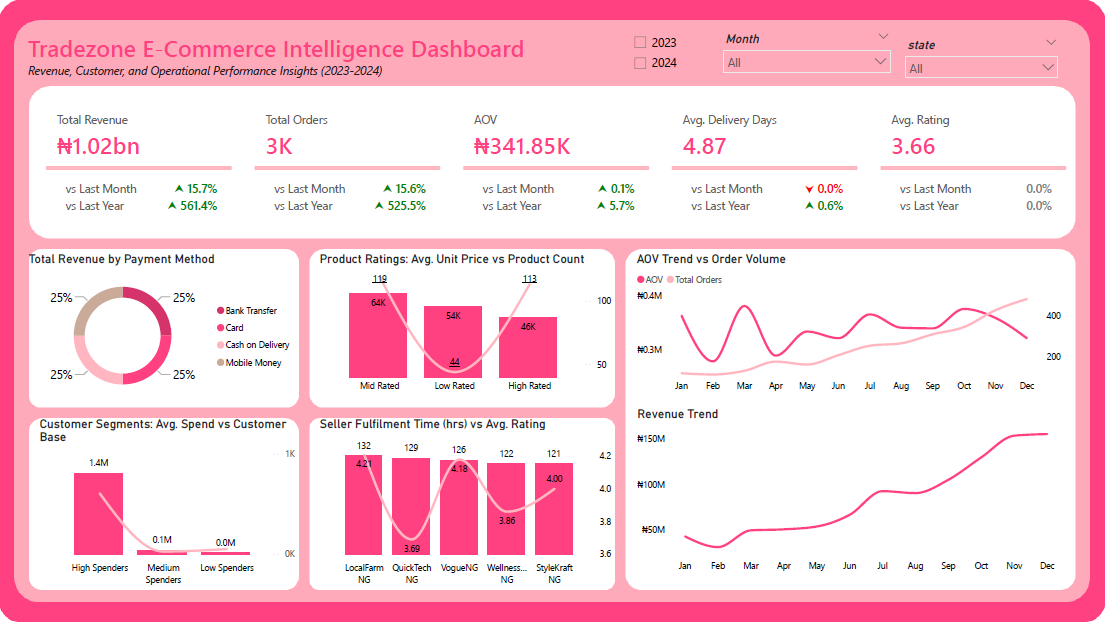

The page's visual inventory and layout, read from the dashboard file:
{"tool":"powerbi","page":{"name":"Page 1","canvas":[1600,900],"ordinal":0},"visuals":[{"type":"lineChart","title":"Revenue Trend","fields":{"Y":["_measures.total_revenue"],"Category":["date.Month"]},"box":[912,580,596,240],"z":0},{"type":"lineClusteredColumnComboChart","title":"Seller Fulfilment Time (hrs) vs Avg. Rating","fields":{"Category":["public seller_fulfilment.seller_name"],"Y":["Avg(public seller_fulfilment.avg_fulfilment_hours)"],"Y2":["Avg(public seller_fulfilment.avg_rating)"]},"box":[472,594,414,242],"z":1000},{"type":"lineClusteredColumnComboChart","title":"Customer Segments: Avg. Spend vs Customer Base","fields":{"Category":["public customer_segments.segment"],"Y2":["Sum(public customer_segments.customer_count)"],"Y":["Sum(public customer_segments.avg_spend_per_customer)"]},"box":[84,594,364,242],"z":2000},{"type":"lineClusteredColumnComboChart","title":"Product Ratings: Avg. Unit Price vs Product Count","fields":{"Category":["public product_ratings.rating_category"],"Y":["Sum(public product_ratings.avg_unit_price)"],"Y2":["Sum(public product_ratings.product_count)"]},"box":[472,366,414,204],"z":3000},{"type":"donutChart","title":"Total Revenue by Payment Method","fields":{"Category":["public payments.payment_method"],"Y":["_measures.total_revenue"]},"box":[68.6,365.7,380,214.3],"z":4000},{"type":"slicer","fields":{"Values":["date.Year"]},"box":[900,56.2,126.2,71.2],"z":5000},{"type":"slicer","fields":{"Values":["public sellers.state"]},"box":[1278,64,232,64],"z":6000},{"type":"cardVisual","fields":{"Data":["_measures.total_revenue","_measures.total_orders","_measures.AOV","_measures.avg_delivery_days","_measures.avg_ratin"]},"box":[68.6,138.6,1475.7,217.1],"z":7000},{"type":"slicer","fields":{"Values":["date.Month"]},"box":[1026,56,252,64],"z":8000},{"type":"lineChart","title":"AOV Trend vs Order Volume","fields":{"Category":["date.Month"],"Y":["_measures.AOV"],"Y2":["_measures.total_orders"]},"box":[911.4,365.7,597.1,204.3],"z":9000},{"type":"textbox","box":[68,56,728,82],"z":10000}]}

Visuals, with their boxes in screenshot pixels (x1, y1, x2, y2), scaled from the page's 1600x900 canvas onto the 1105x622 screenshot:
"Revenue Trend" lineChart: Rect(630, 401, 1041, 567)
"Seller Fulfilment Time (hrs) vs Avg. Rating" lineClusteredColumnComboChart: Rect(326, 411, 612, 578)
"Customer Segments: Avg. Spend vs Customer Base" lineClusteredColumnComboChart: Rect(58, 411, 309, 578)
"Product Ratings: Avg. Unit Price vs Product Count" lineClusteredColumnComboChart: Rect(326, 253, 612, 394)
"Total Revenue by Payment Method" donutChart: Rect(47, 253, 310, 401)
slicer - date.Year: Rect(622, 39, 709, 88)
slicer - public sellers.state: Rect(883, 44, 1043, 88)
cardVisual - _measures.total_revenue x _measures.total_orders: Rect(47, 96, 1067, 246)
slicer - date.Month: Rect(709, 39, 883, 83)
"AOV Trend vs Order Volume" lineChart: Rect(629, 253, 1042, 394)
textbox: Rect(47, 39, 550, 95)
